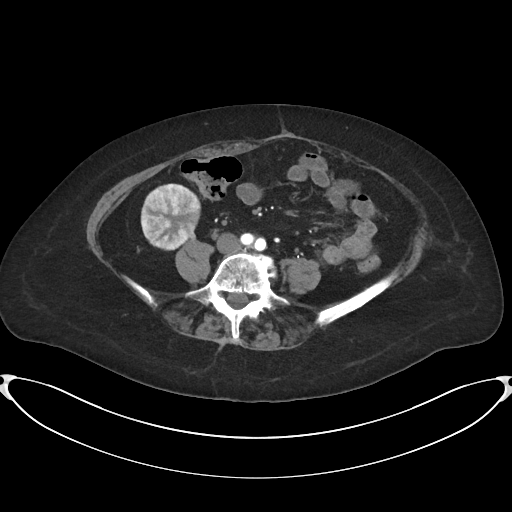Lesion: (132, 180, 203, 253)
